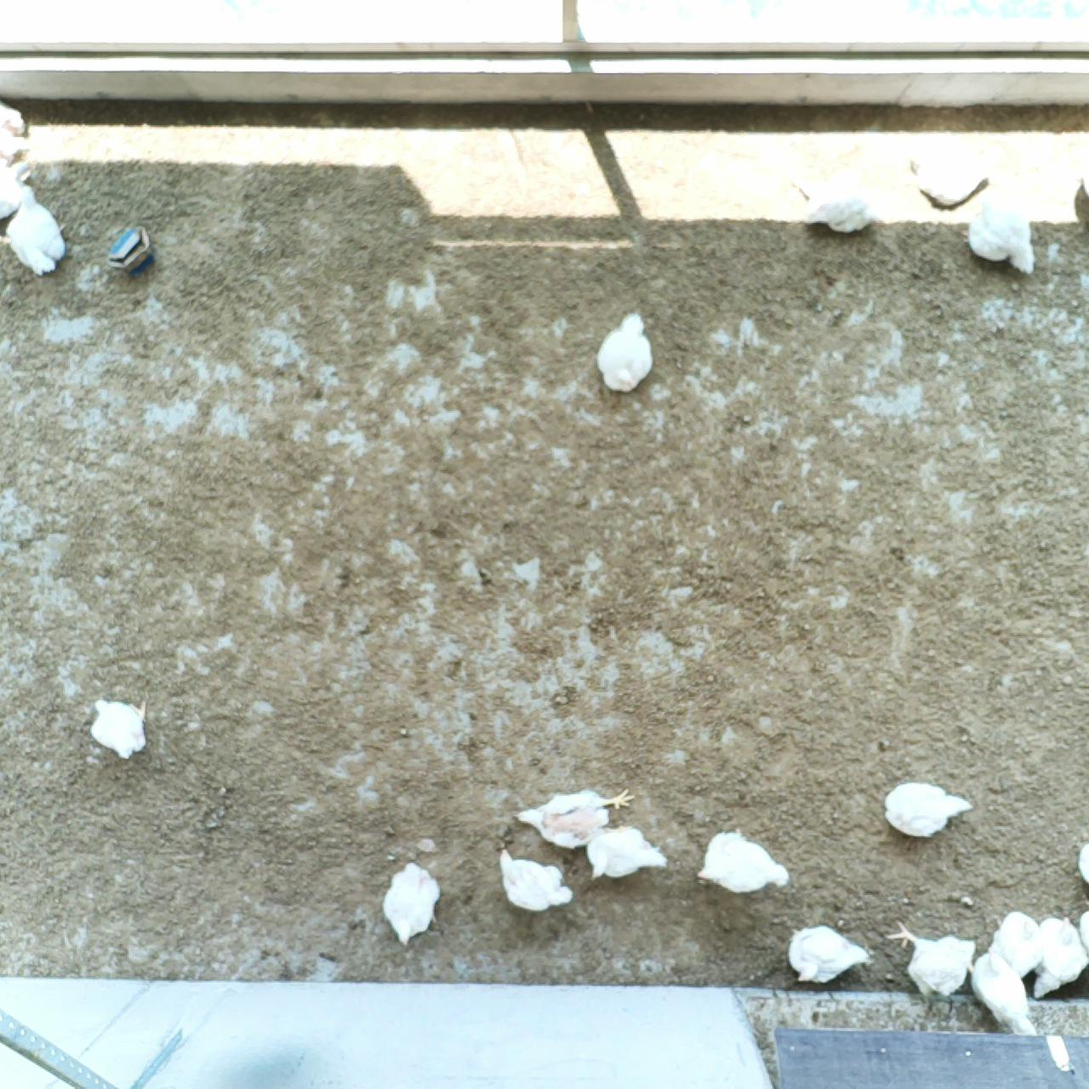chicken: (512, 783, 632, 848), (889, 921, 977, 998), (968, 946, 1038, 1036), (696, 831, 791, 895), (801, 164, 879, 232), (7, 187, 67, 275), (884, 782, 975, 840), (908, 143, 991, 206), (789, 925, 870, 986), (383, 861, 442, 944), (1030, 918, 1088, 1001), (596, 313, 656, 393), (497, 850, 573, 913), (971, 206, 1038, 275), (588, 826, 668, 880), (989, 907, 1041, 983), (89, 696, 149, 758), (0, 162, 34, 220), (0, 129, 34, 168), (0, 99, 26, 137), (1078, 841, 1089, 887), (1082, 908, 1089, 955)
